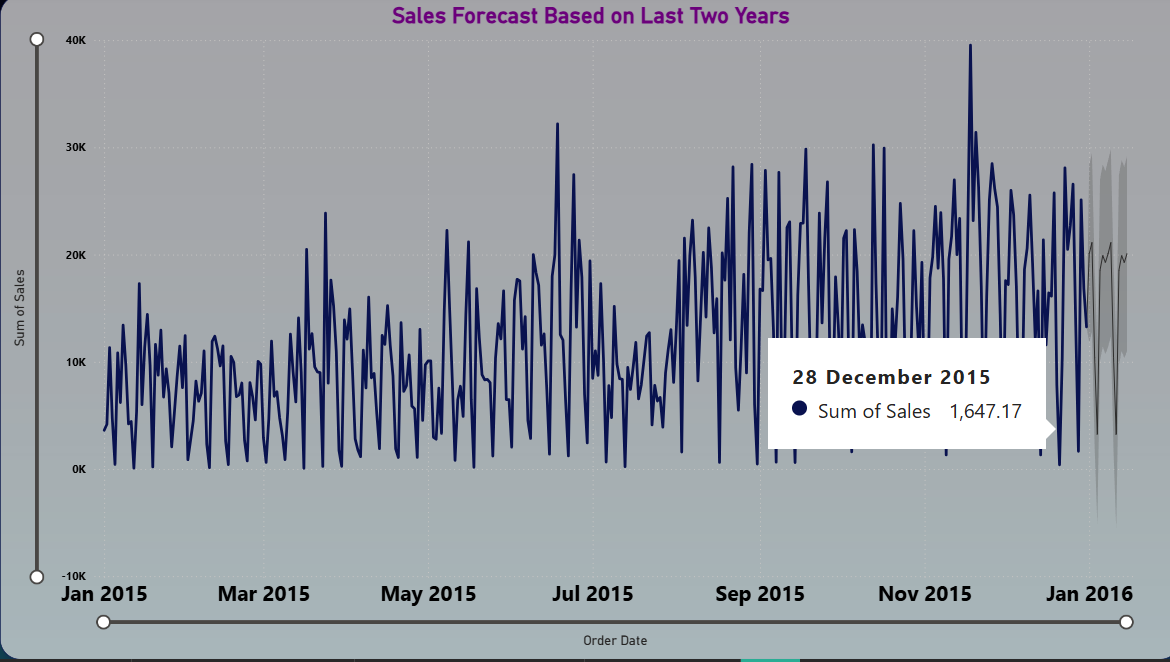

This screenshot's page, from the dashboard's own definition file:
{"tool":"powerbi","page":{"name":"Forecast Dashboard","canvas":[1280,720],"ordinal":1},"visuals":[{"type":"lineChart","title":"Sales Forecast Based on Last Two Years","fields":{"Y":["Sum(Orders.Sales)"],"Category":["Orders.Order Date"]},"box":[0,0,1280.1,720.6],"z":0}]}

Visuals, with their boxes in screenshot pixels (x1, y1, x2, y2), scaled from the page's 1280x720 canvas onto the 1170x662 screenshot:
"Sales Forecast Based on Last Two Years" lineChart: {"x1": 0, "y1": 0, "x2": 1169, "y2": 661}
